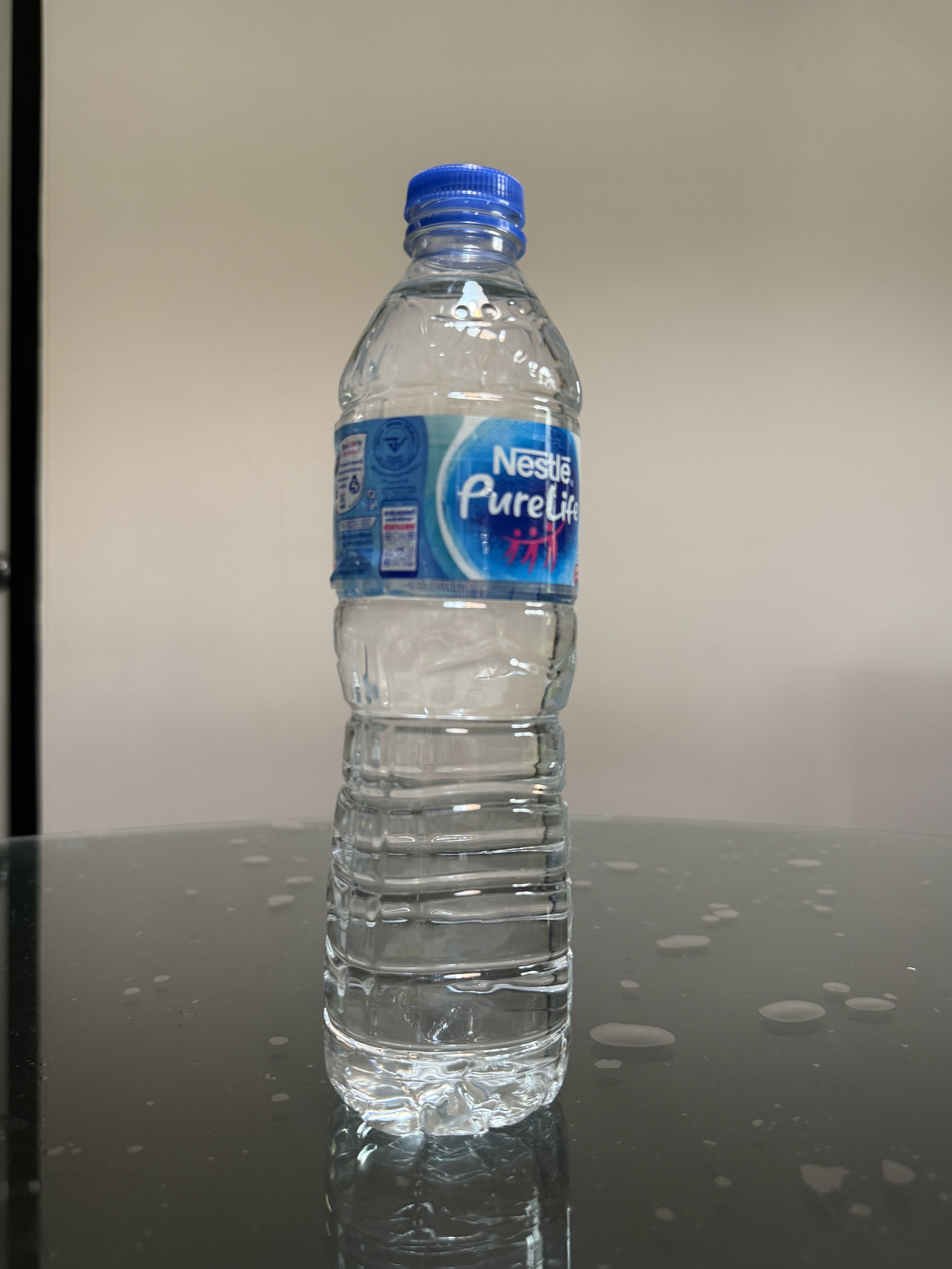half_cap: (401, 160, 528, 258)
